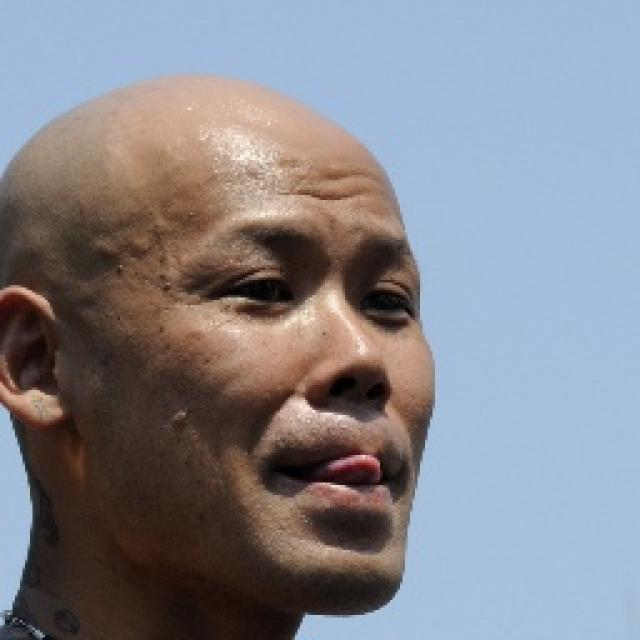earlobe: (24, 386, 74, 432)
eye: (224, 268, 298, 312), (352, 283, 425, 325)
nose: (310, 388, 394, 441)
wholeear: (0, 282, 72, 430)
